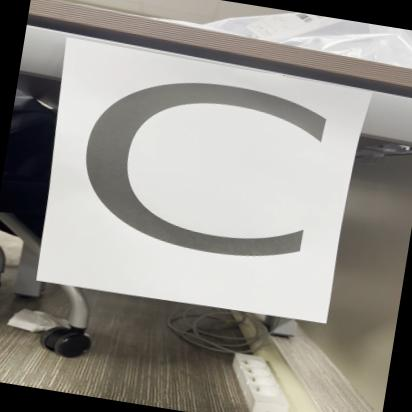seat: (28, 40, 362, 326)
